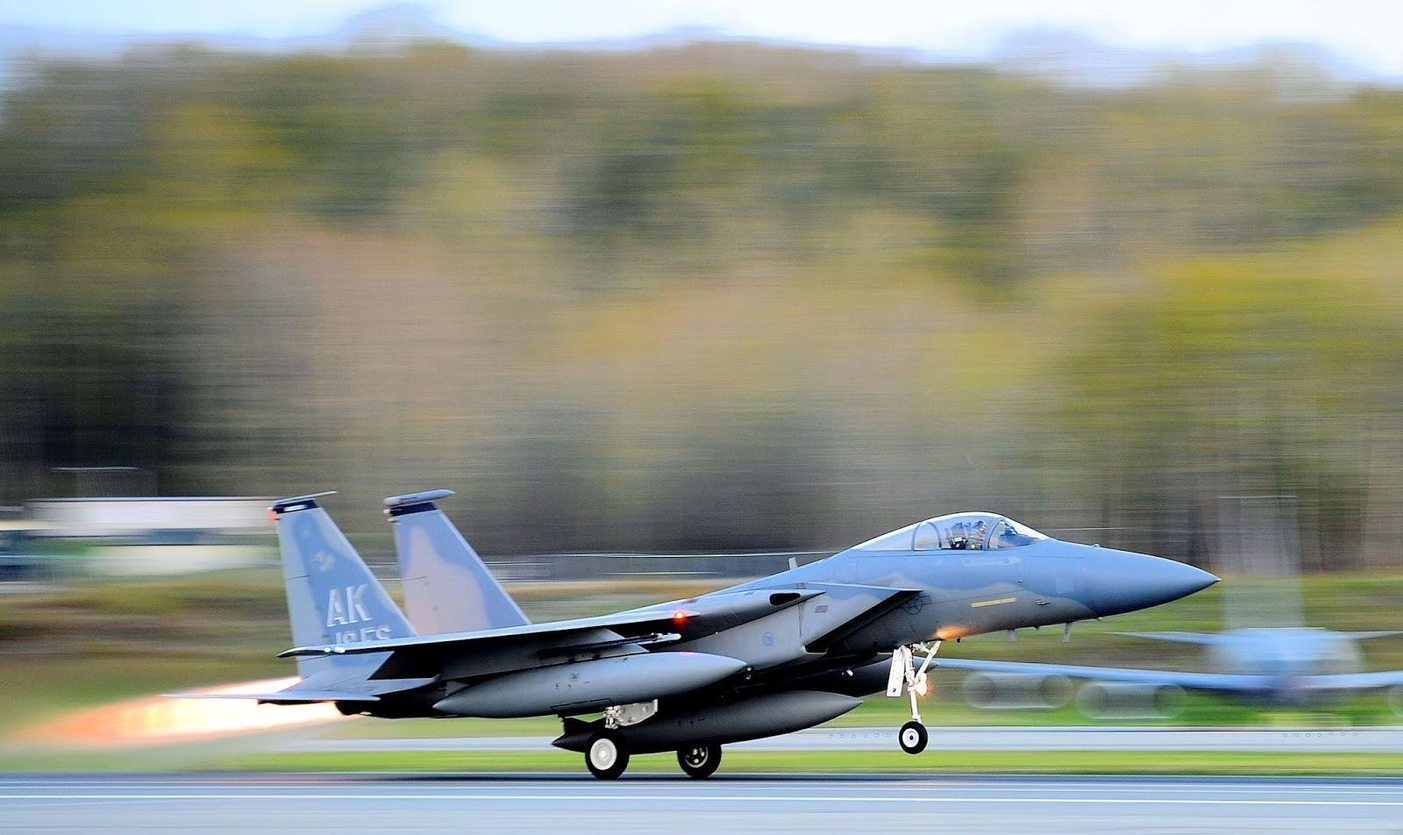aircraft: (185, 492, 1209, 780)
